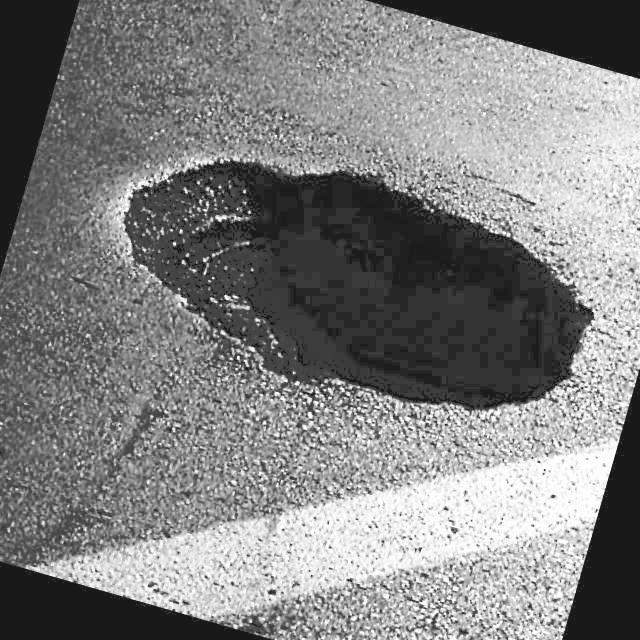Pothole: (112, 123, 612, 418)
